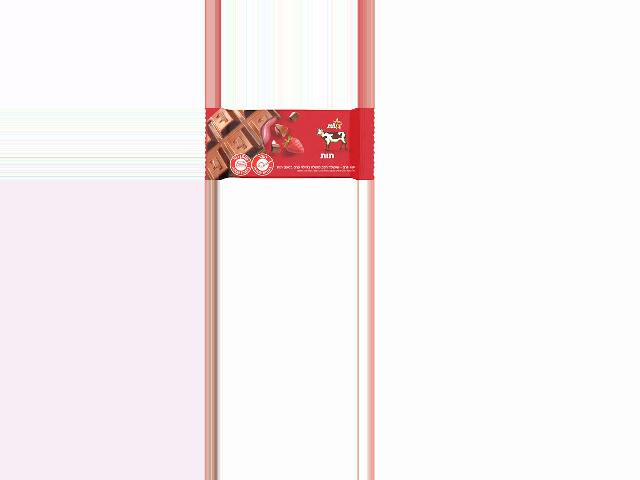chocolate: (206, 108, 375, 180)
